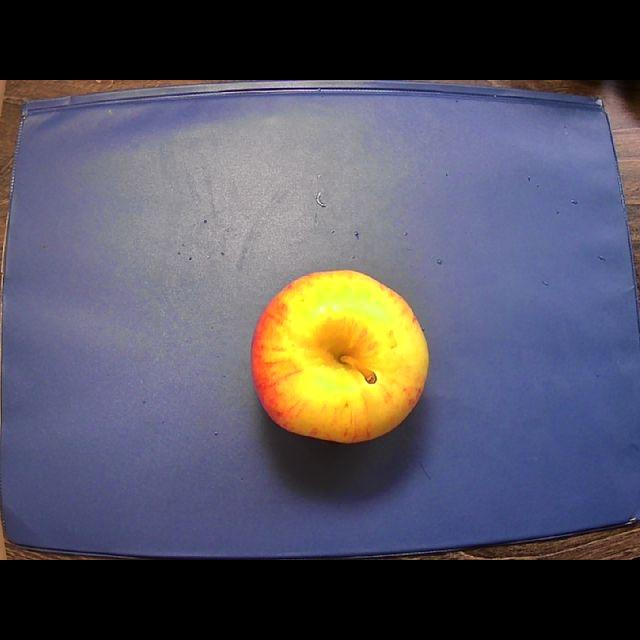manzana: (252, 271, 427, 442)
